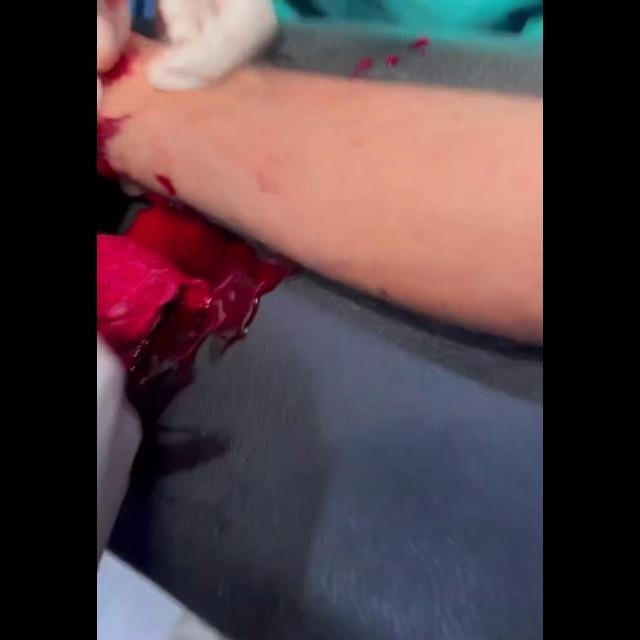blood: (97, 170, 299, 420), (97, 35, 197, 178)
